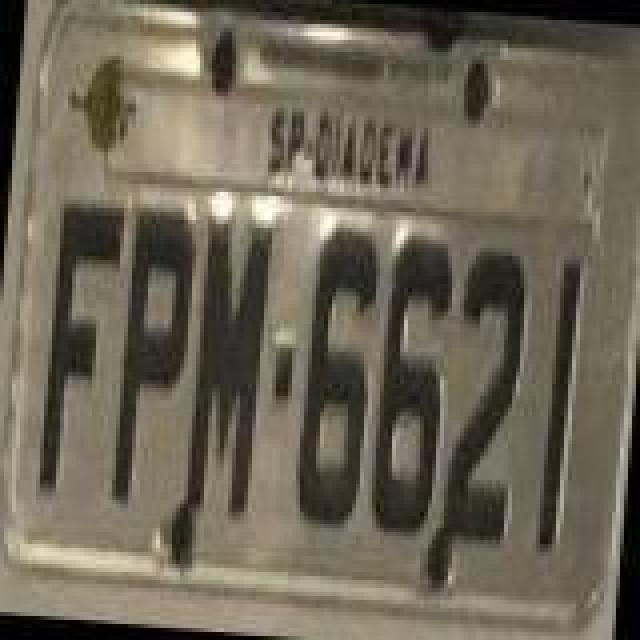1: (534, 258, 586, 558)
2: (442, 244, 534, 548)
6: (290, 224, 382, 528), (370, 232, 462, 536)
F: (36, 200, 124, 504)
M: (186, 216, 278, 520)
P: (106, 200, 198, 512)
